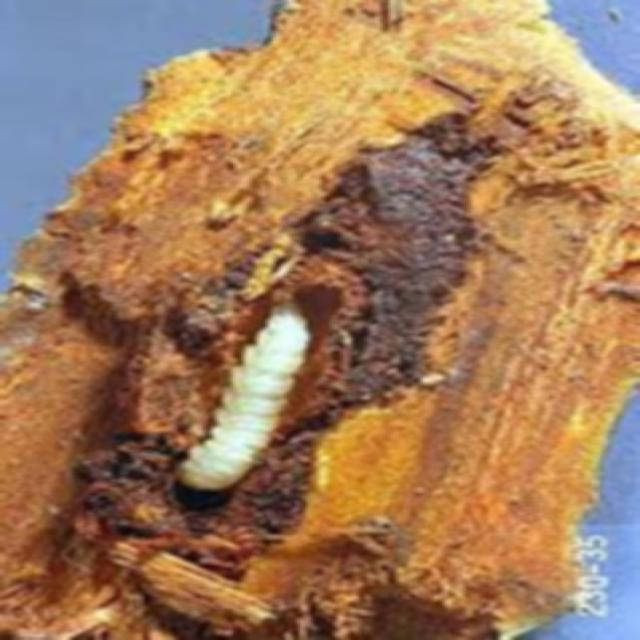peach borer: (175, 299, 328, 494)
